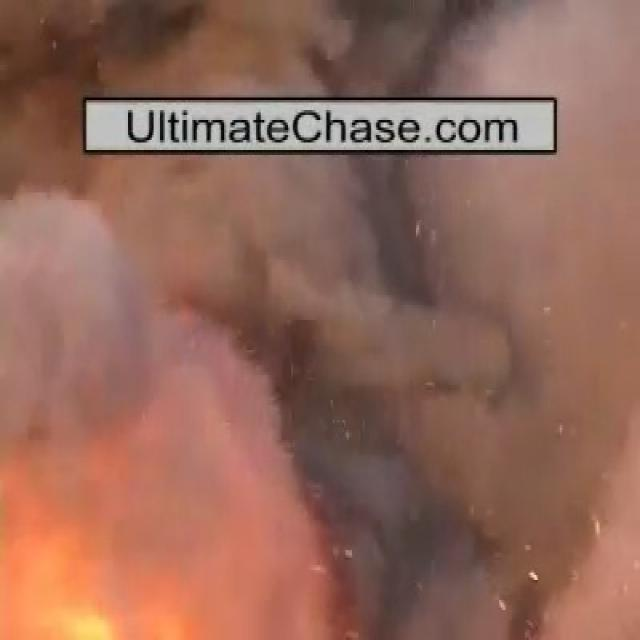smoke: (6, 162, 602, 571), (56, 5, 565, 95)
